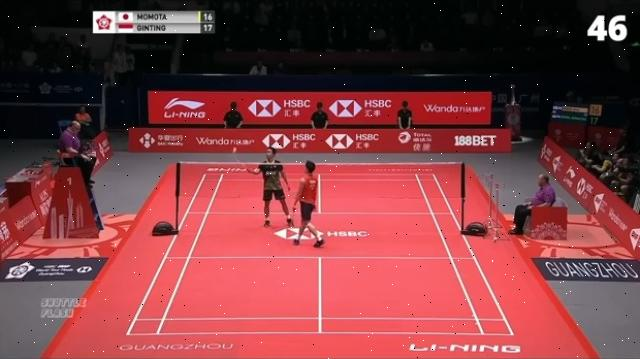Shuttlecock: (232, 146, 238, 155)
